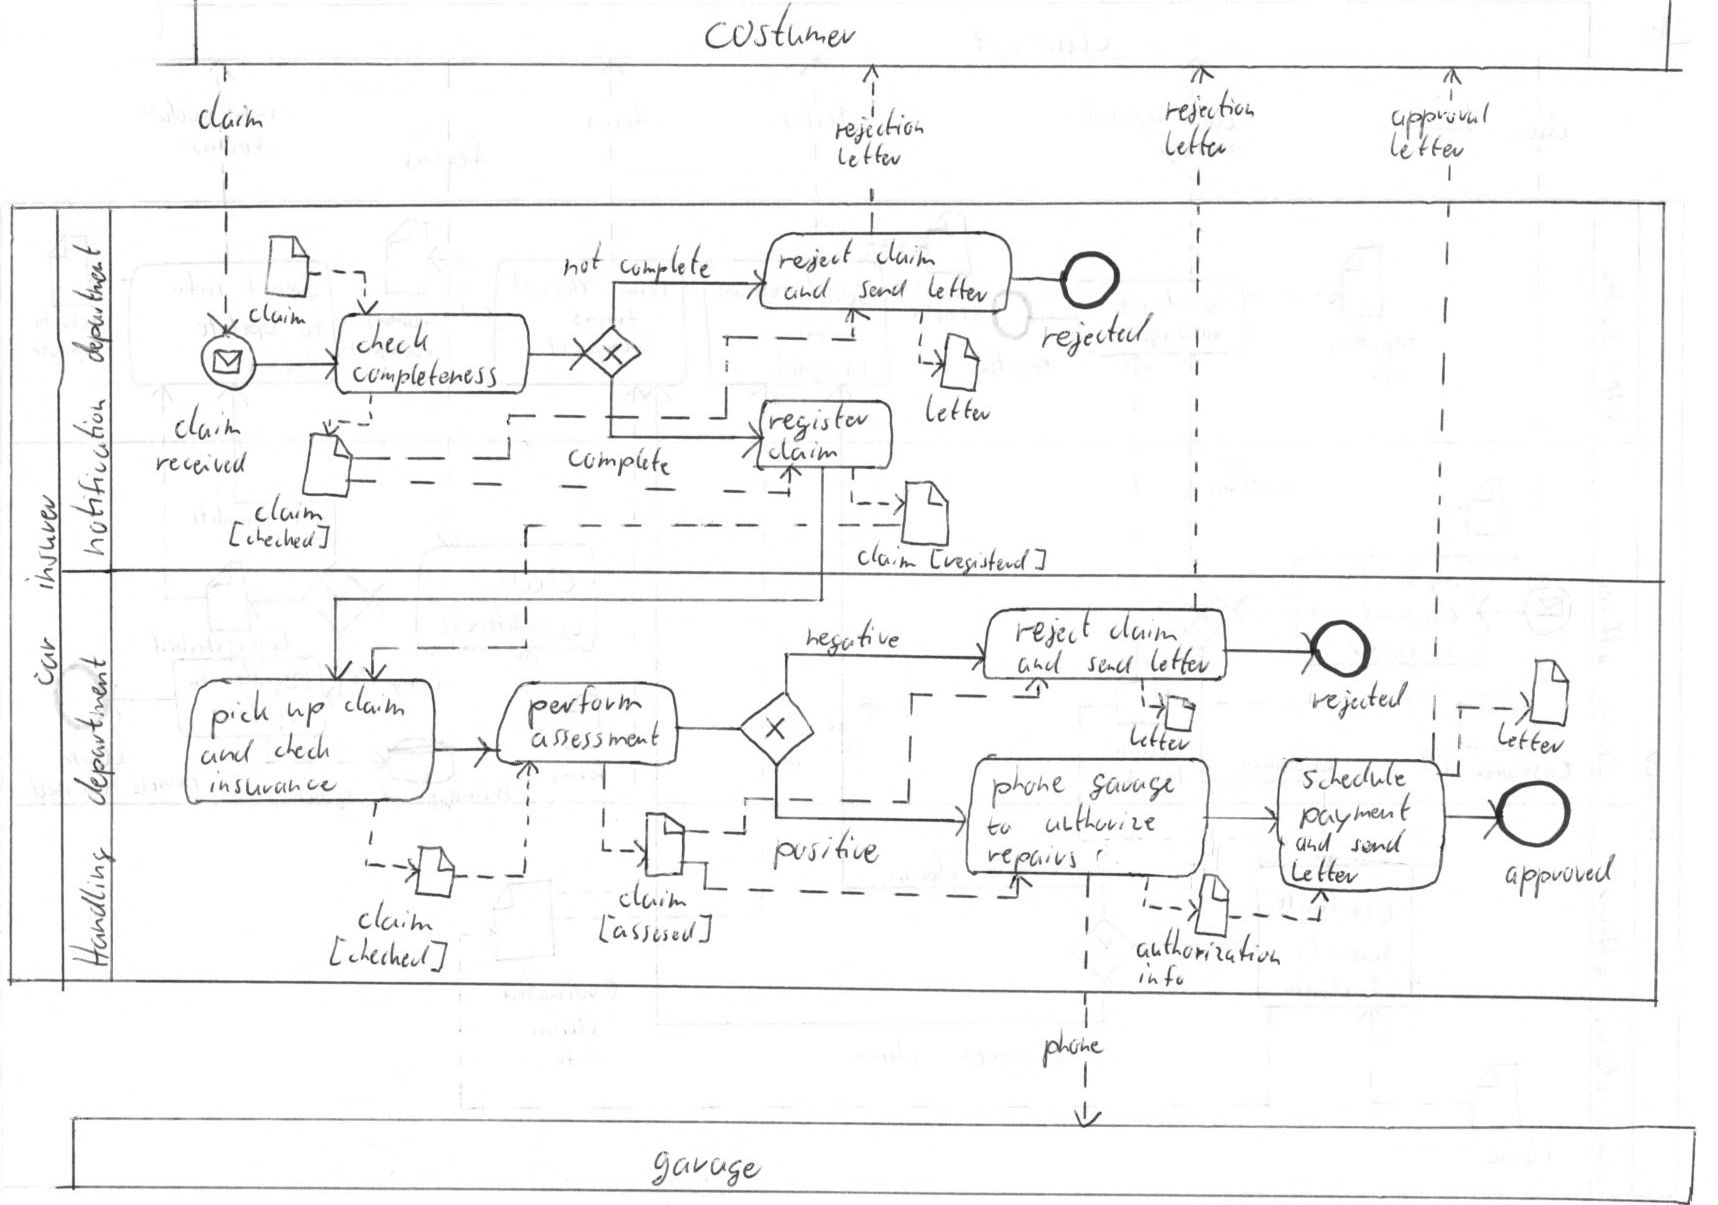Handling: (61, 842, 121, 973)
Letter: (1286, 851, 1366, 888)
[assesed]: (593, 907, 721, 950)
[checked]: (322, 931, 453, 977), (222, 516, 336, 556)
[registered]: (923, 543, 1051, 578)
and: (195, 734, 258, 770), (1010, 645, 1068, 681), (778, 272, 837, 305), (1290, 829, 1337, 859)
approval: (1385, 97, 1496, 146)
approved: (1499, 849, 1621, 903)
assessment: (525, 715, 666, 756)
authorization: (1129, 920, 1286, 971)
authorize: (1040, 796, 1162, 839)
car: (26, 632, 63, 691)
check: (352, 315, 433, 362), (268, 727, 337, 768)
claim: (192, 86, 272, 137), (352, 892, 439, 937), (170, 398, 248, 446), (612, 873, 695, 916), (1104, 604, 1183, 648), (251, 487, 328, 529), (337, 680, 413, 722), (852, 534, 923, 573), (869, 234, 940, 272), (762, 433, 843, 466), (244, 296, 311, 332)
complete: (614, 238, 717, 289), (561, 441, 676, 483)
completeness: (347, 352, 504, 396)
costumer: (698, 1, 862, 57)
department: (67, 650, 121, 809), (65, 238, 116, 369)
garage: (645, 1144, 768, 1192), (1084, 768, 1180, 807)
info: (1133, 957, 1191, 992)
insurance: (202, 766, 343, 799)
insurer: (20, 490, 63, 597)
letter: (1492, 715, 1570, 760), (1385, 127, 1473, 164), (919, 388, 997, 430), (1161, 121, 1234, 164), (920, 269, 997, 308), (1125, 718, 1197, 757), (1144, 644, 1217, 679), (834, 138, 907, 174)
negative: (802, 614, 905, 661)
not: (557, 235, 608, 281)
notification: (63, 394, 117, 563)
payment: (1292, 787, 1416, 839)
perform: (520, 679, 648, 739)
phone: (986, 759, 1072, 816), (1037, 1024, 1111, 1076)
pick: (204, 684, 275, 747)
positive: (765, 824, 885, 877)
received: (151, 445, 252, 480)
register: (762, 396, 873, 446)
reject: (1010, 604, 1098, 653), (772, 235, 858, 277)
rejected: (1035, 305, 1159, 366), (1307, 676, 1413, 725)
rejection: (1158, 82, 1258, 129), (829, 103, 928, 149)
repairs: (980, 841, 1085, 877)
schedule: (1298, 755, 1413, 795)
send: (1345, 825, 1413, 862), (852, 274, 914, 304), (1082, 649, 1140, 678)
to: (980, 813, 1018, 841)
up: (283, 696, 330, 732)
